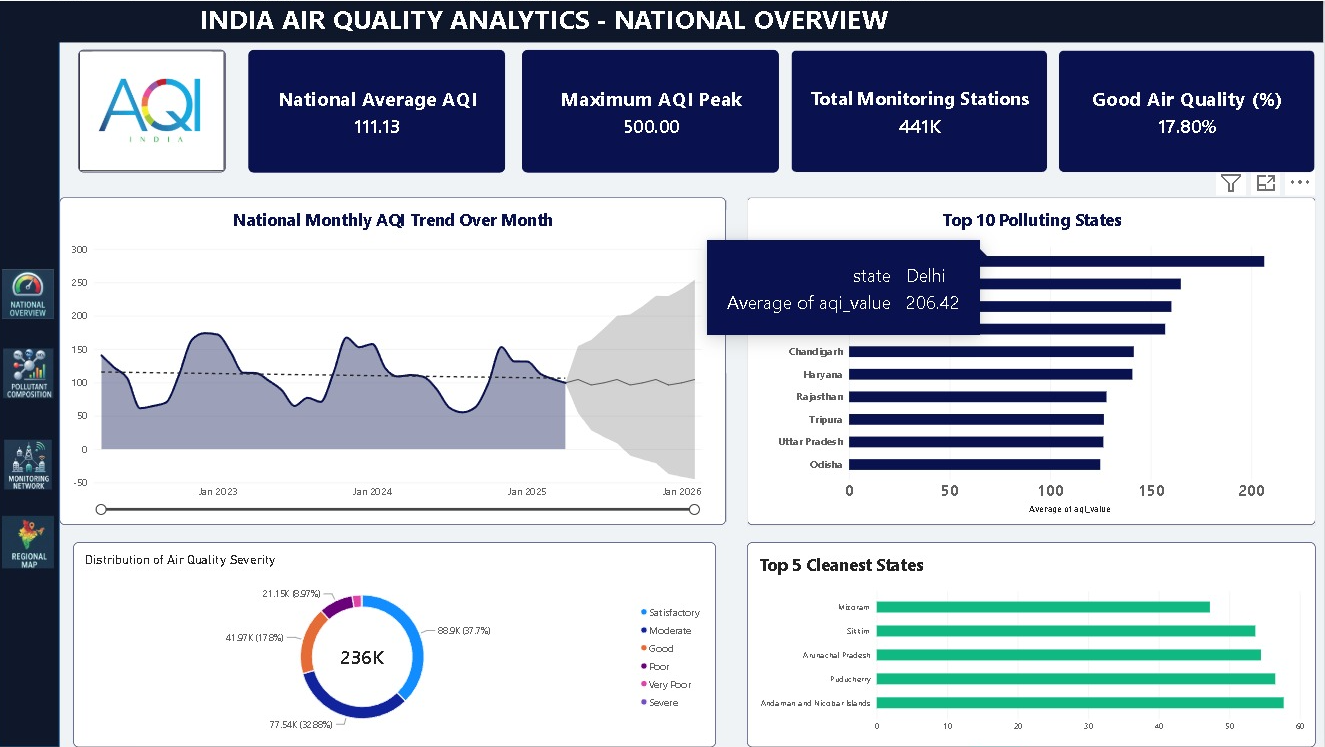

This screenshot's page, from the dashboard's own definition file:
{"tool":"powerbi","page":{"name":"National Overview","canvas":[1920,1080],"ordinal":0},"visuals":[{"type":"shape","box":[0,0,90.5,1080.4],"z":0},{"type":"textbox","box":[0,0,1920.1,59.7],"z":1000},{"type":"image","box":[7.2,389.1,75.5,71.5],"z":2000},{"type":"image","box":[7.2,743.8,75.5,79.5],"z":3000},{"type":"image","box":[7.2,503.1,75.5,72],"z":4000},{"type":"image","box":[6.9,635.4,75.4,72.3],"z":5000},{"type":"lineChart","title":"National Monthly AQI Trend Over Month ","fields":{"Category":["cleaned_aqi.date.Variation.Date Hierarchy.Year","cleaned_aqi.date.Variation.Date Hierarchy.Month"],"Y":["cleaned_aqi.Avg_AQI"]},"box":[91.1,284.9,965,474.8],"z":6000},{"type":"clusteredBarChart","title":"Top 10 Polluting States","fields":{"Category":["cleaned_aqi.state"],"Y":["Avg(cleaned_aqi.aqi_value)"]},"box":[1085.2,284.9,823.6,474.8],"z":7000},{"type":"image","box":[117.6,69.8,213.5,177.3],"z":8000},{"type":"cardVisual","title":"National Average AQI","fields":{"Data":["Avg(cleaned_aqi.aqi_value)"]},"box":[364.3,69.8,372,178.3],"z":9000},{"type":"cardVisual","title":"National Average AQI","fields":{"Data":["Max(cleaned_aqi.aqi_value)"]},"box":[759.6,69.8,372,178.3],"z":10000},{"type":"cardVisual","fields":{"Data":["Sum(cleaned_aqi.number_of_monitoring_stations)"]},"box":[1149.1,69.8,372.1,178.3],"z":11000},{"type":"cardVisual","fields":{"Data":["cleaned_aqi.Pct_Good_Air"]},"box":[1536.7,69.8,372,178.3],"z":12000},{"type":"donutChart","title":"Distribution of Air Quality Severity","fields":{"Category":["cleaned_aqi.air_quality_status"],"Y":["CountNonNull(cleaned_aqi.aqi_value)"]},"box":[110.5,782.9,930.2,296.5],"z":13000},{"type":"clusteredBarChart","title":"Top 5 Cleanest States","fields":{"Category":["cleaned_aqi.state"],"Y":["Avg(cleaned_aqi.aqi_value)"]},"box":[1085.2,782.9,823.6,296.5],"z":14000}]}

Visuals, with their boxes in screenshot pixels (x1, y1, x2, y2), scaled from the page's 1920x1080 canvas onto the 1325x747 screenshot:
shape: (x1=0, y1=0, x2=62, y2=746)
textbox: (x1=0, y1=0, x2=1324, y2=41)
image: (x1=5, y1=269, x2=57, y2=319)
image: (x1=5, y1=514, x2=57, y2=569)
image: (x1=5, y1=348, x2=57, y2=398)
image: (x1=5, y1=439, x2=57, y2=489)
"National Monthly AQI Trend Over Month " lineChart: (x1=63, y1=197, x2=729, y2=525)
"Top 10 Polluting States" clusteredBarChart: (x1=749, y1=197, x2=1317, y2=525)
image: (x1=81, y1=48, x2=228, y2=171)
"National Average AQI" cardVisual: (x1=251, y1=48, x2=508, y2=172)
"National Average AQI" cardVisual: (x1=524, y1=48, x2=781, y2=172)
cardVisual - Sum(cleaned_aqi.number_of_monitoring_stations): (x1=793, y1=48, x2=1050, y2=172)
cardVisual - cleaned_aqi.Pct_Good_Air: (x1=1060, y1=48, x2=1317, y2=172)
"Distribution of Air Quality Severity" donutChart: (x1=76, y1=542, x2=718, y2=746)
"Top 5 Cleanest States" clusteredBarChart: (x1=749, y1=542, x2=1317, y2=746)
